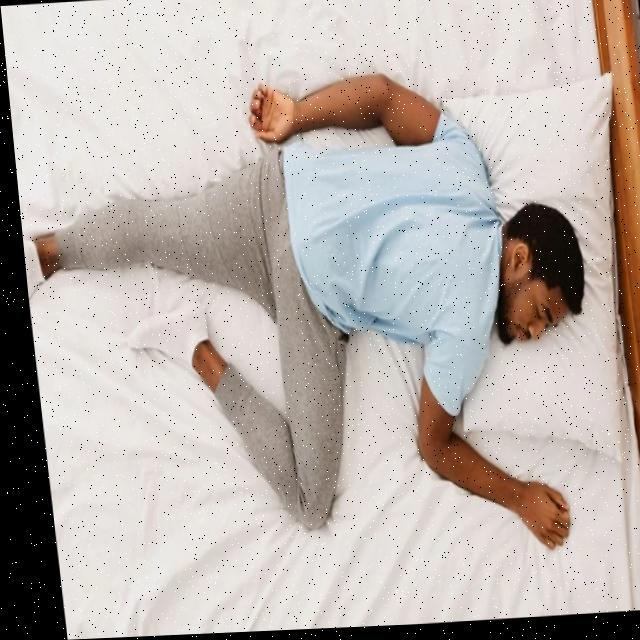sleeping-person: (5, 42, 616, 601)
